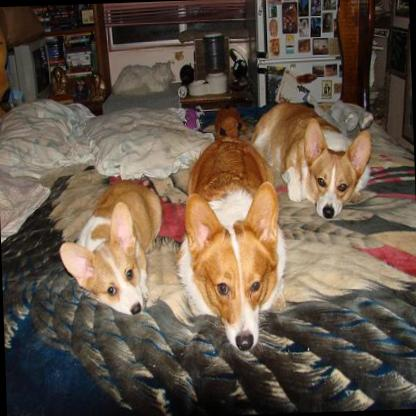Pembroke: (171, 132, 290, 352), (249, 99, 375, 224), (56, 177, 167, 317)
